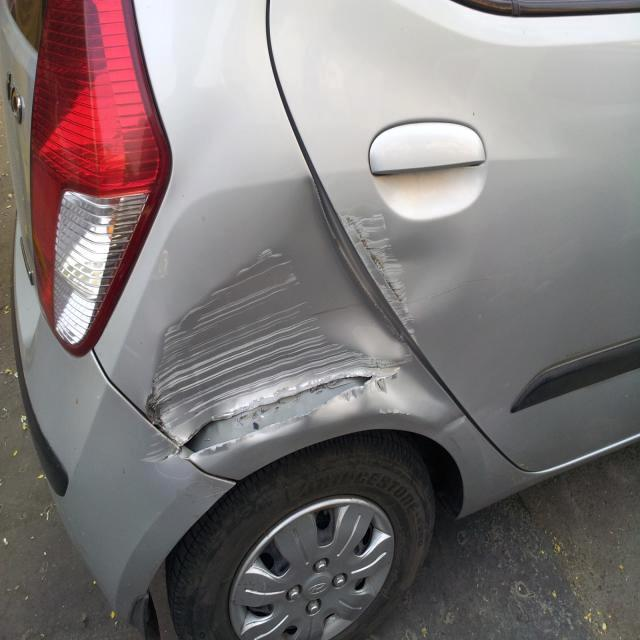minor: (438, 418, 465, 442)
moderate: (130, 233, 410, 480), (337, 215, 438, 381)
